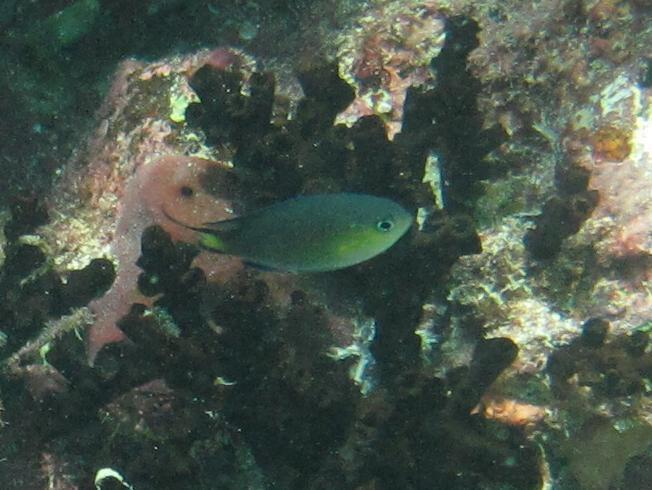Chromis nigura: (139, 184, 434, 294)
